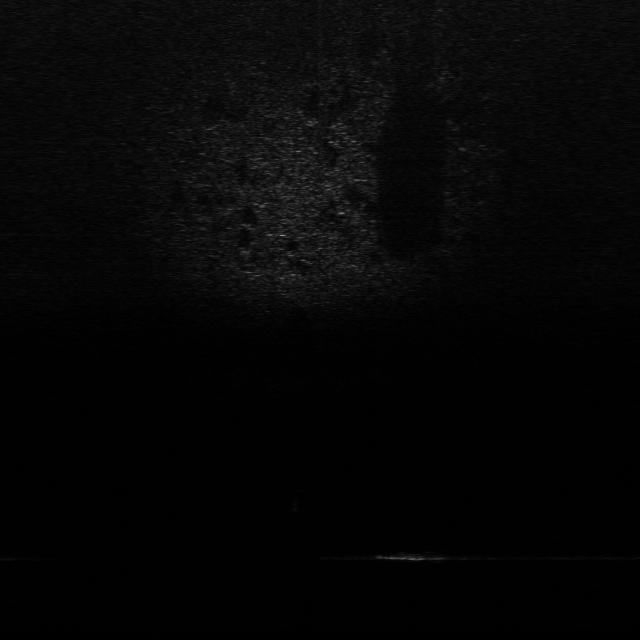metal bucket: (372, 545, 448, 567)
